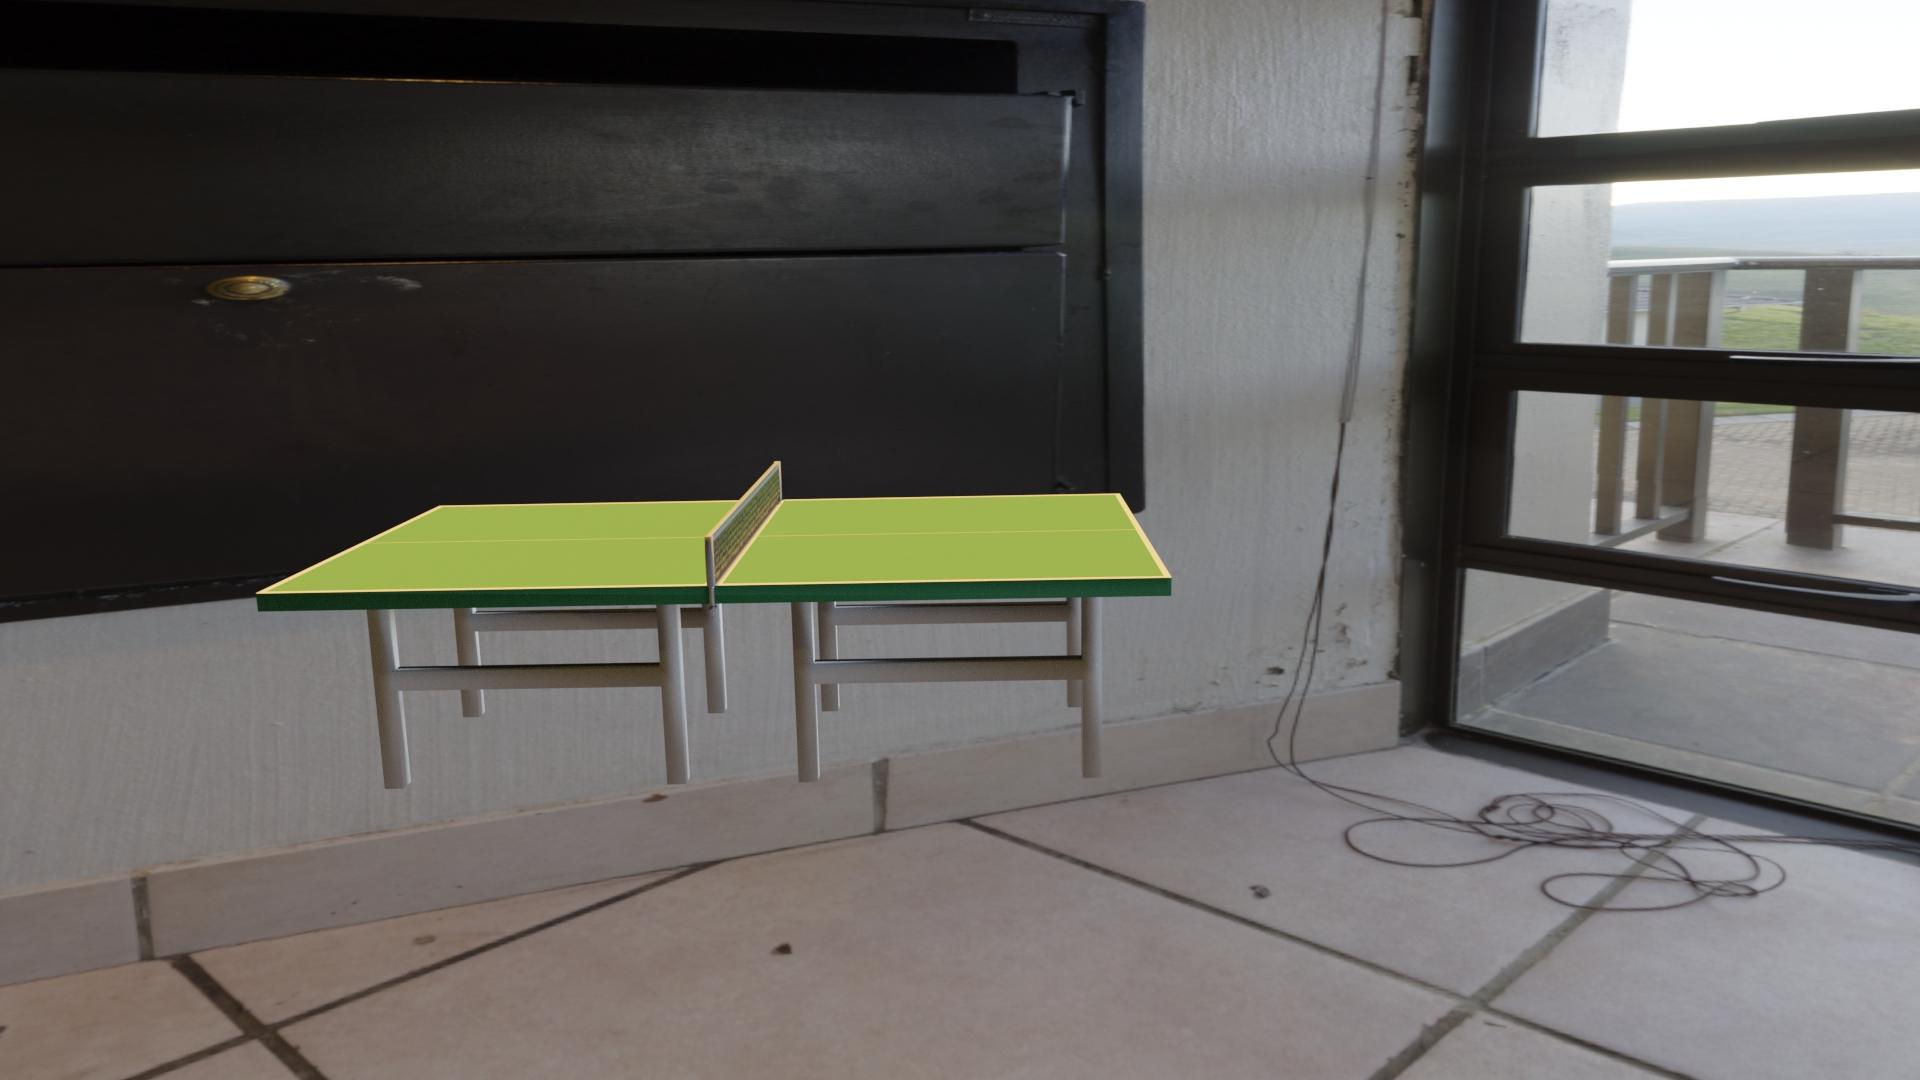table: (265, 495, 1164, 592)
